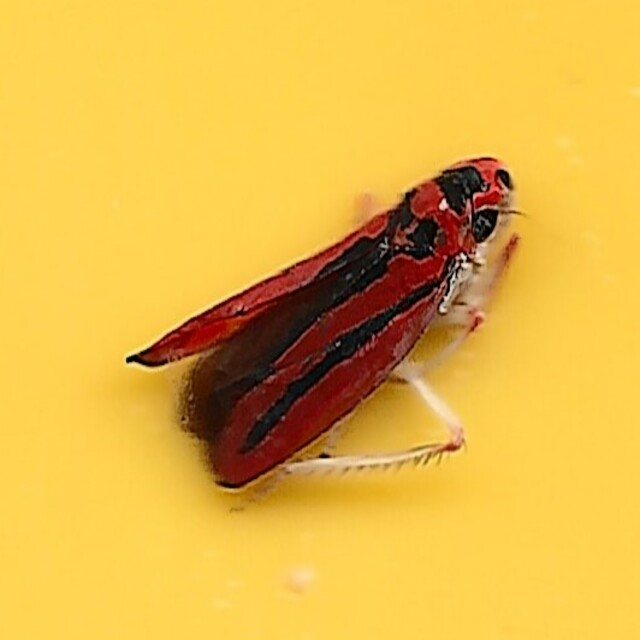Hemiptera: (120, 150, 520, 490)
